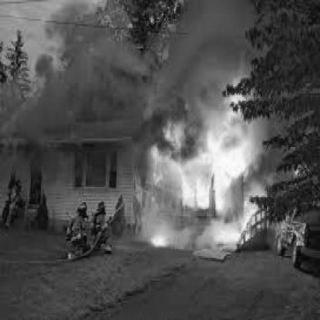other: (0, 155, 106, 219)
